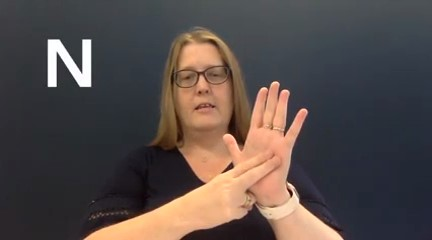N: (183, 79, 309, 234)
